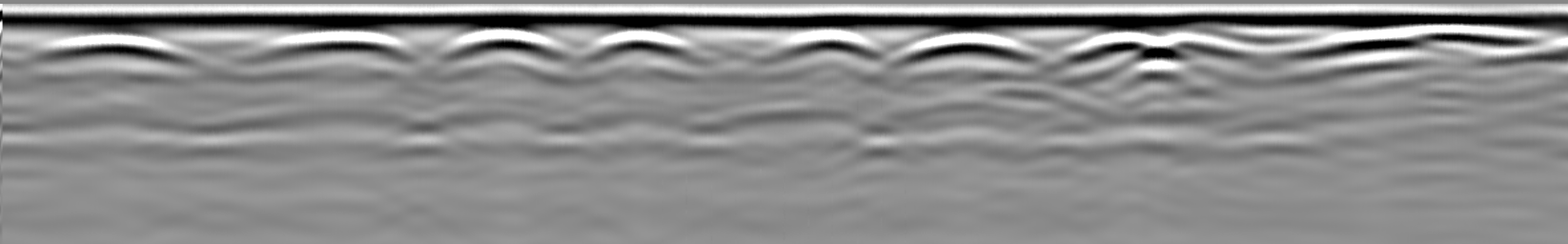steel: (1303, 30, 1565, 72), (1064, 31, 1250, 74), (28, 30, 202, 65), (253, 30, 428, 64), (895, 30, 1043, 67), (757, 28, 890, 66), (447, 30, 566, 65), (581, 30, 704, 61)
